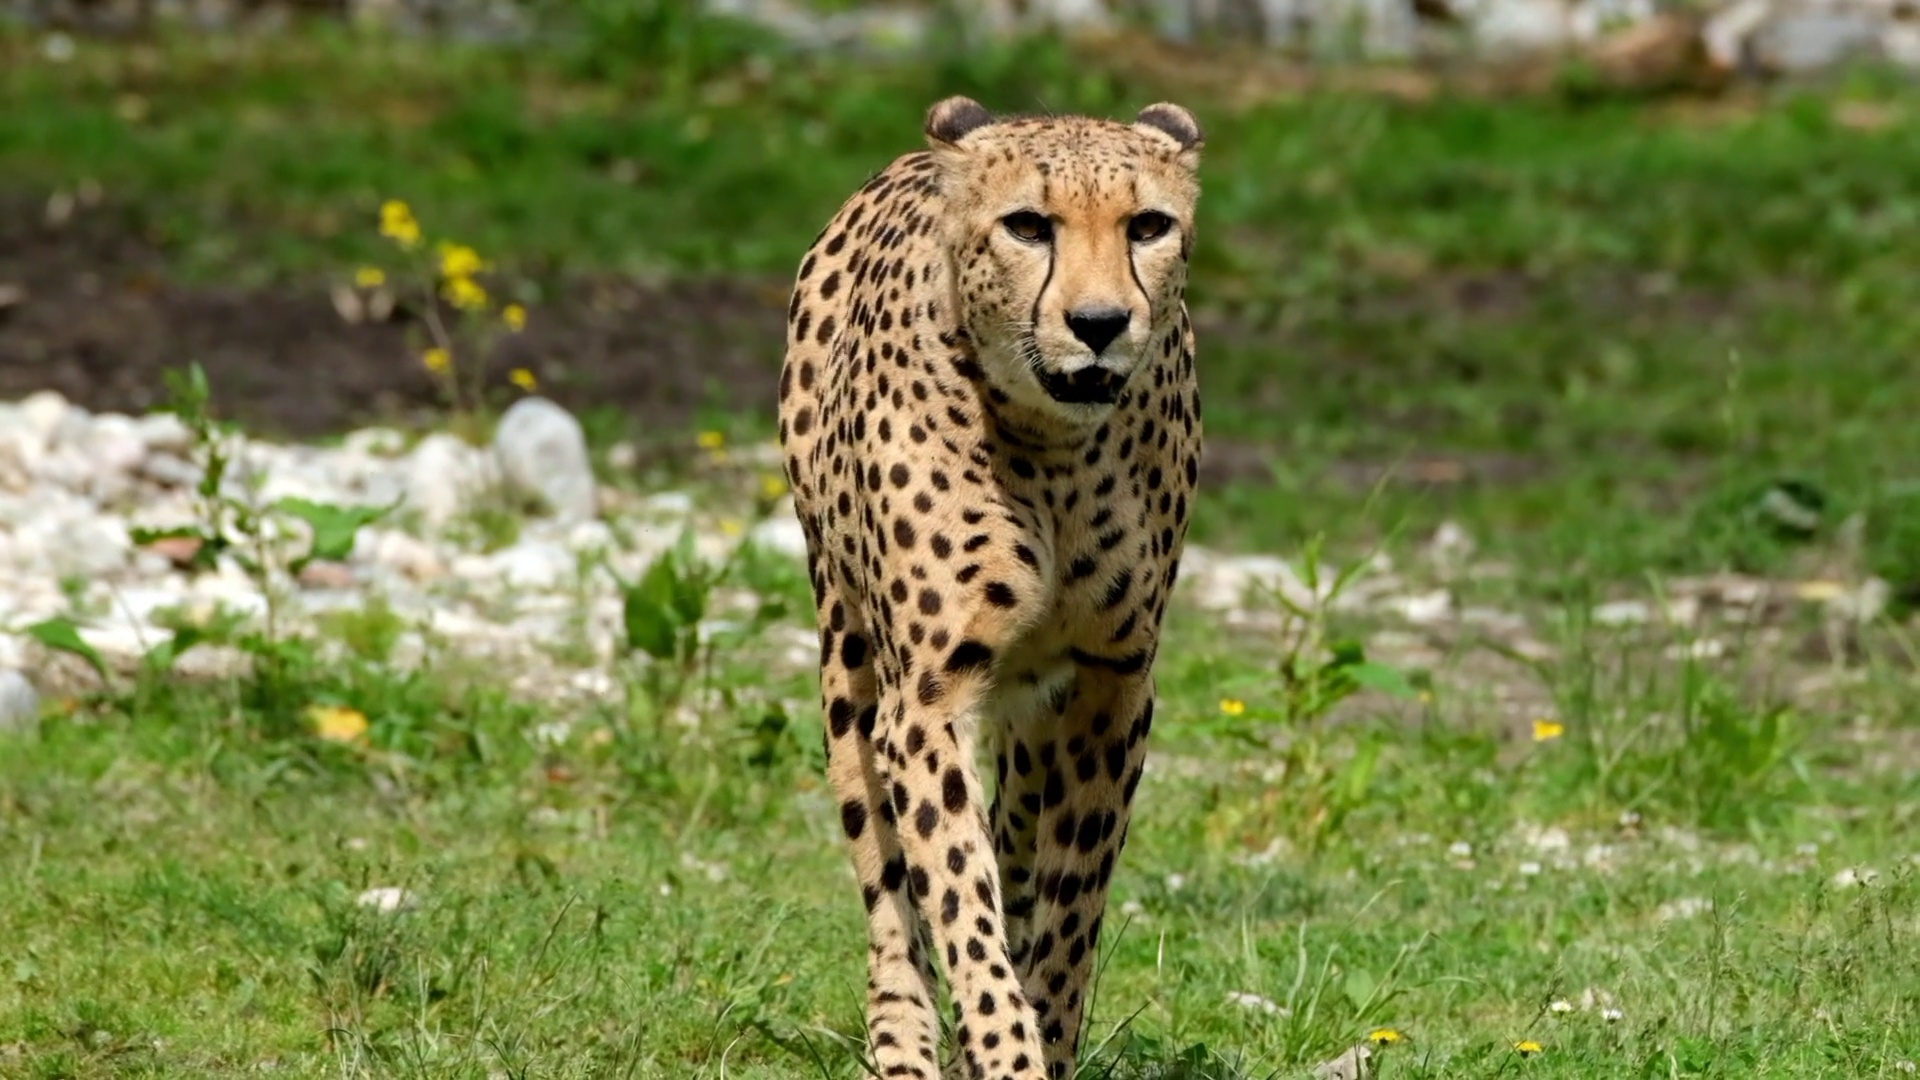Cheetah: (773, 91, 1212, 1080)
